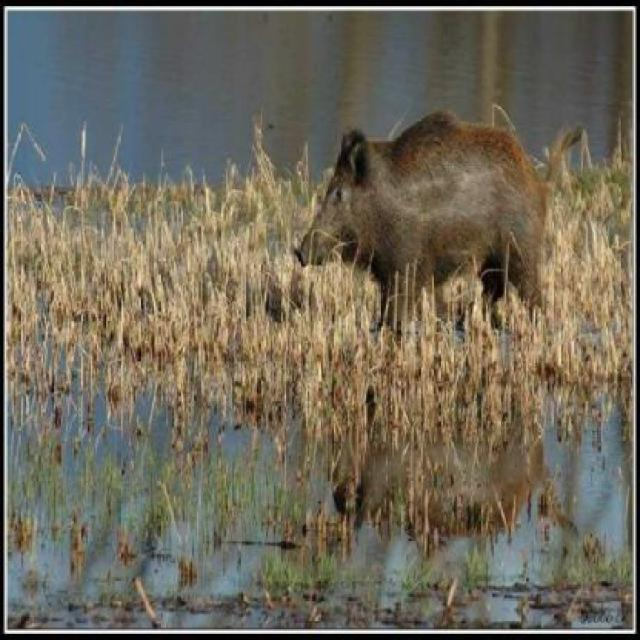Boar: (267, 106, 640, 350)
